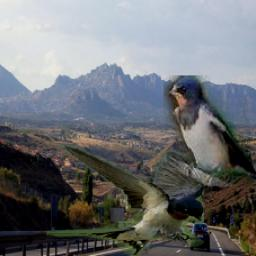Swallow: (46, 143, 204, 256), (164, 77, 256, 187)
